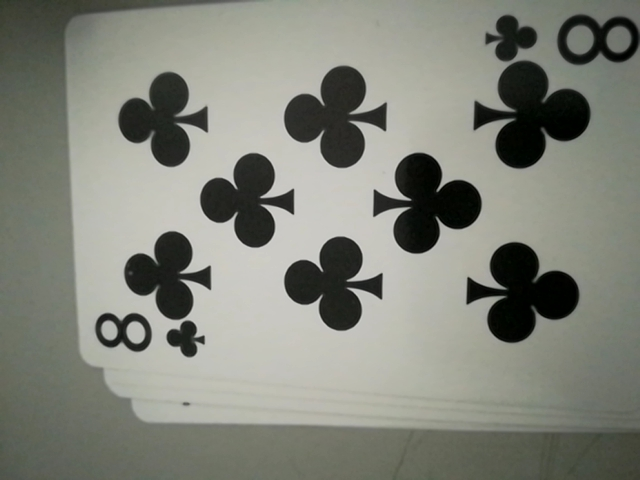mh 8: (480, 2, 640, 70), (92, 307, 210, 366)
